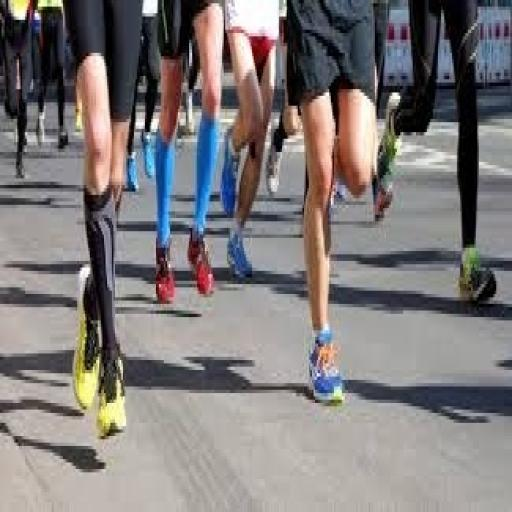running: (284, 0, 397, 410), (62, 0, 146, 443)
